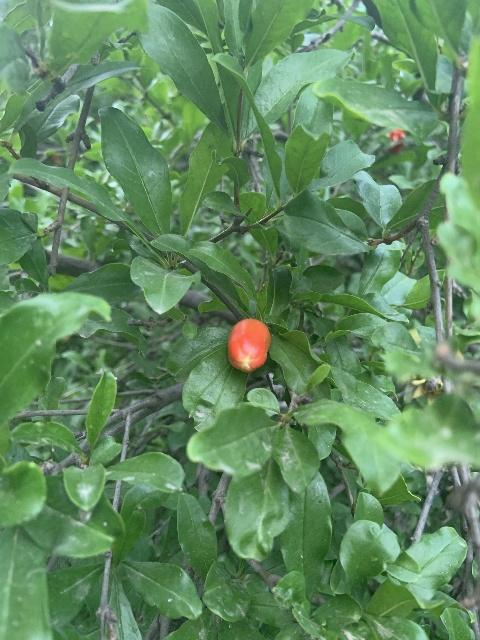bud: (227, 318, 271, 372)
